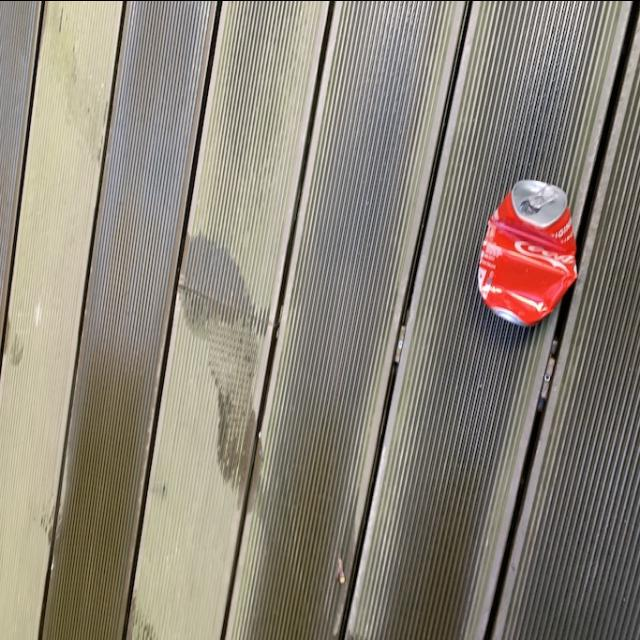litter: (476, 174, 584, 326)
